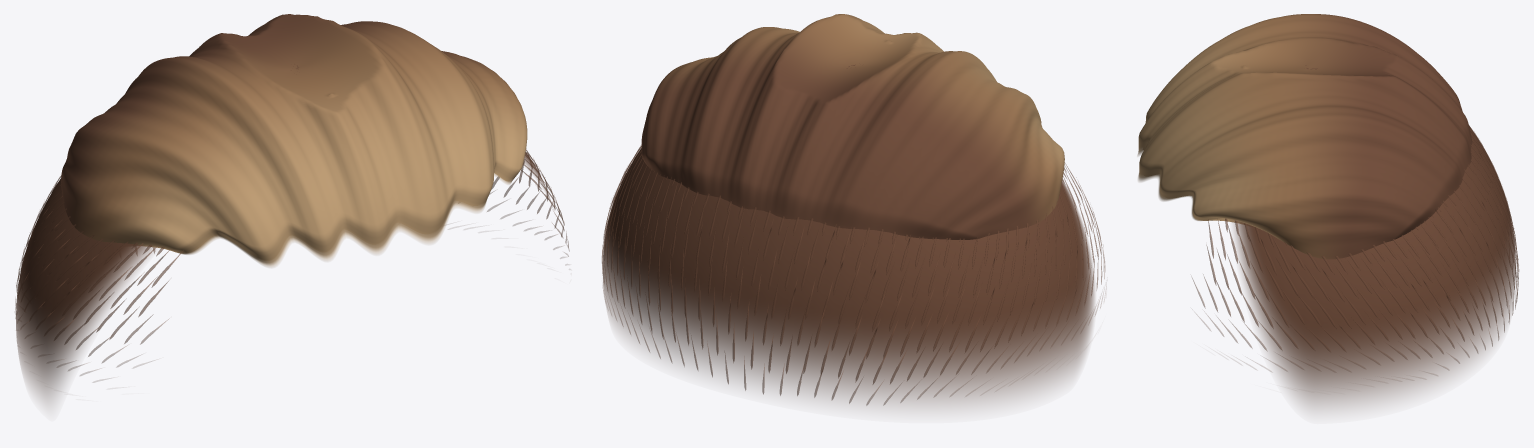
Rendered from Masculine-sidepart-cowboy259-hair-ombre.glb.
3 views of the same model, side by side, from view 1: azimuth 30°, elevation 25°; view 2: azimuth 150°, elevation 25°; view 3: azimuth 270°, elevation 25° (orthographic). The views are drawn at different scales.
Visible parts, largest first — view 1: 226 hair / Hair259 / textured forward Crop, 226 hair / Hair258 / smooth side fade, 226 hair / Hair259 / directional fade marks214; view 2: 226 hair / Hair258 / smooth side fade, 226 hair / Hair259 / textured forward Crop, 226 hair / Hair259 / directional fade marks214; view 3: 226 hair / Hair259 / textured forward Crop, 226 hair / Hair258 / smooth side fade, 226 hair / Hair259 / directional fade marks214.
Boxes of the visible parts, x1,y1,x2,y2 form: 226 hair / Hair259 / textured forward Crop: [61, 14, 527, 267]; 226 hair / Hair258 / smooth side fade: [16, 64, 552, 403]; 226 hair / Hair259 / directional fade marks214: [15, 149, 569, 382]; 226 hair / Hair258 / smooth side fade: [603, 64, 1094, 407]; 226 hair / Hair259 / textured forward Crop: [641, 14, 1064, 239]; 226 hair / Hair259 / directional fade marks214: [602, 145, 1106, 405]; 226 hair / Hair259 / textured forward Crop: [1137, 14, 1472, 259]; 226 hair / Hair258 / smooth side fade: [1233, 65, 1515, 409]; 226 hair / Hair259 / directional fade marks214: [1192, 125, 1519, 378].
Bounding box in the file's own units: 0.9743 × 0.6227 × 0.7545.
